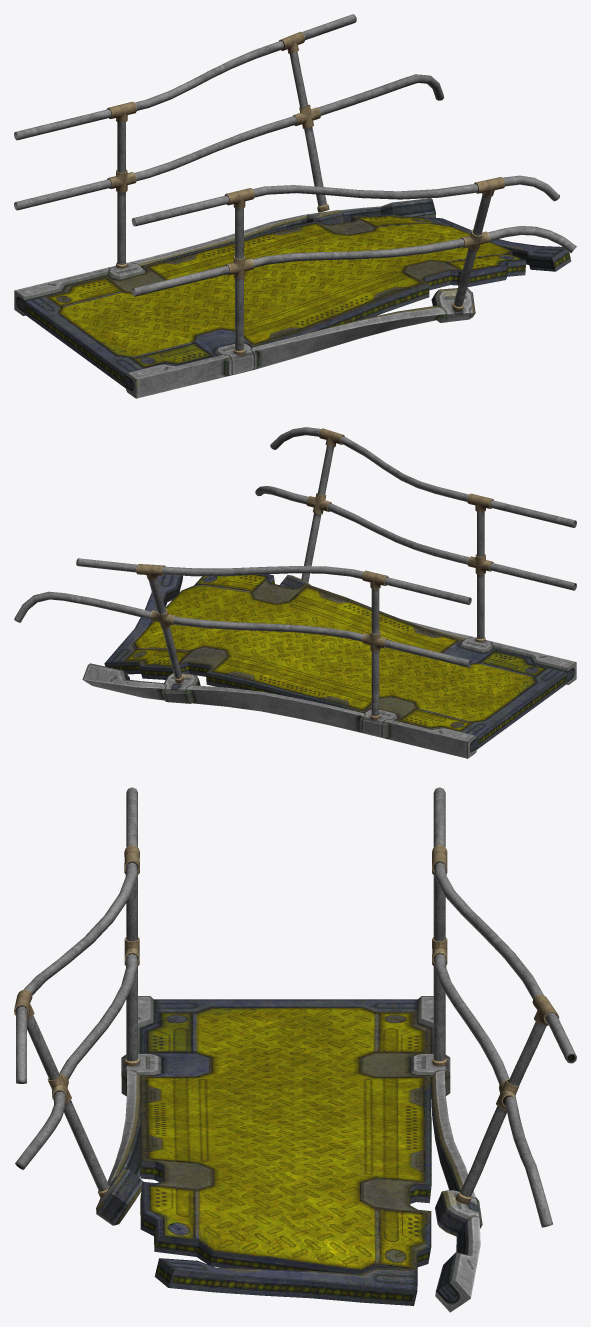
The model's file is catwalk_straight_broken.dae.
3 views of the same model, one above another, from view 1: azimuth 30°, elevation 25°; view 2: azimuth 150°, elevation 25°; view 3: azimuth 270°, elevation 25° (orthographic). The views are drawn at different scales.
Visible parts, largest first — view 1: catwalk_straight_broken, railing__8_; view 2: catwalk_straight_broken, railing__8_; view 3: catwalk_straight_broken, railing__8_.
Part boxes in pixels (x1,y1,x2,y2): catwalk_straight_broken: (14, 198, 571, 398); railing__8_: (14, 14, 576, 355); catwalk_straight_broken: (82, 574, 576, 758); railing__8_: (14, 427, 576, 719); catwalk_straight_broken: (96, 996, 482, 1312); railing__8_: (14, 787, 576, 1227).
Bounding box in the file's own units: 4.44 × 1.81 × 3.54.
